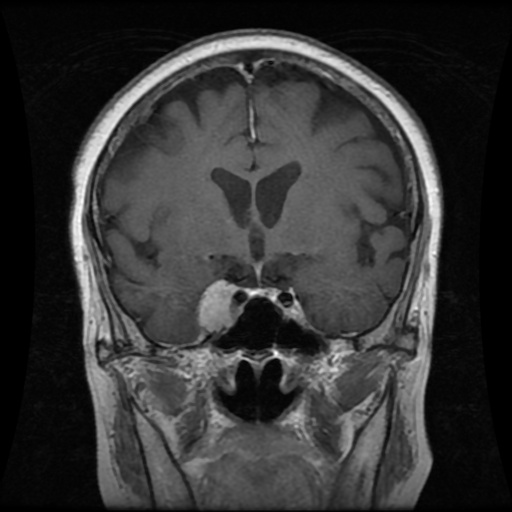meningioma: (199, 279, 237, 331)
